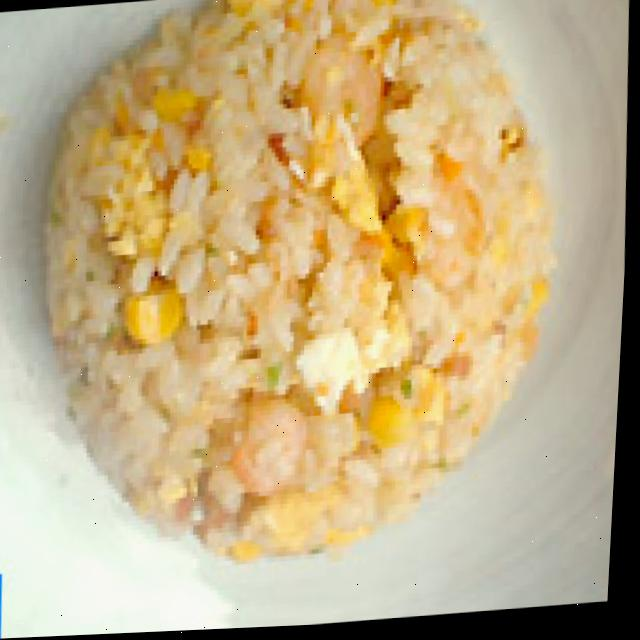米饭主食: (2, 0, 604, 639)
